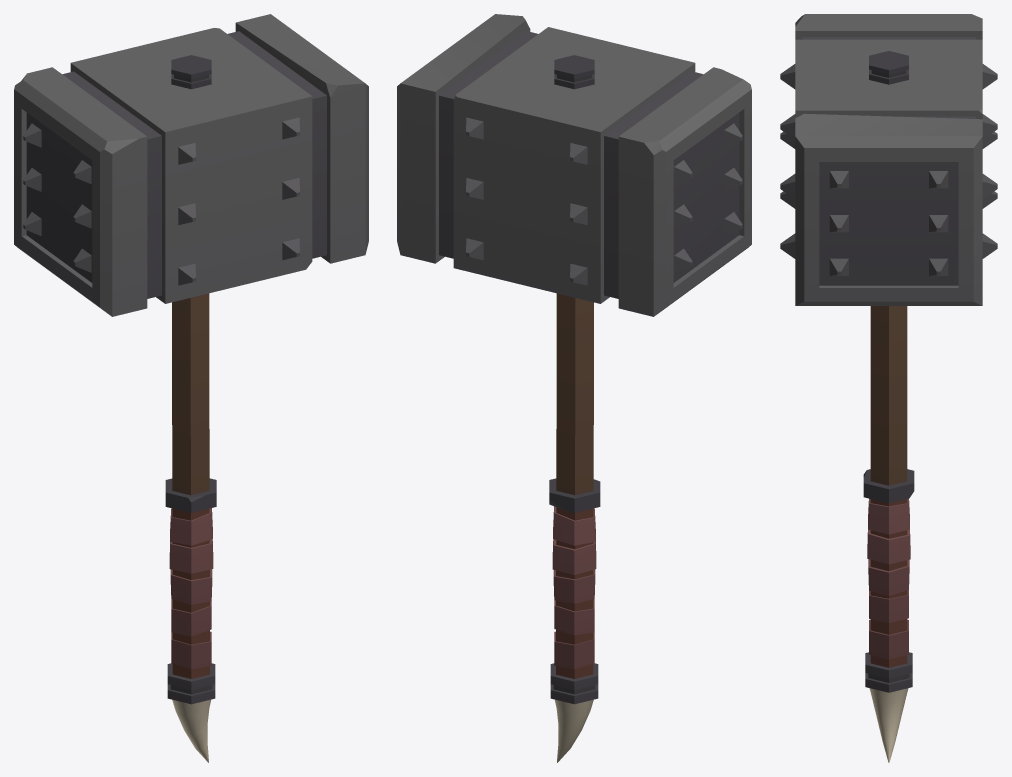
Rendered from Hammer_01.glb.
3 views of the same model, side by side, from view 1: azimuth 30°, elevation 25°; view 2: azimuth 150°, elevation 25°; view 3: azimuth 270°, elevation 25° (orthographic).
Visible parts, largest first — view 1: Hammer_01; view 2: Hammer_01; view 3: Hammer_01.
Part boxes in pixels (x1=…): Hammer_01: x1=14, y1=14, x2=368, y2=762; Hammer_01: x1=397, y1=14, x2=751, y2=762; Hammer_01: x1=780, y1=14, x2=997, y2=762.
Size of the model in its own units: 0.3613 by 0.8524 by 0.2415.
Materials: 1 (1 with a texture image).
